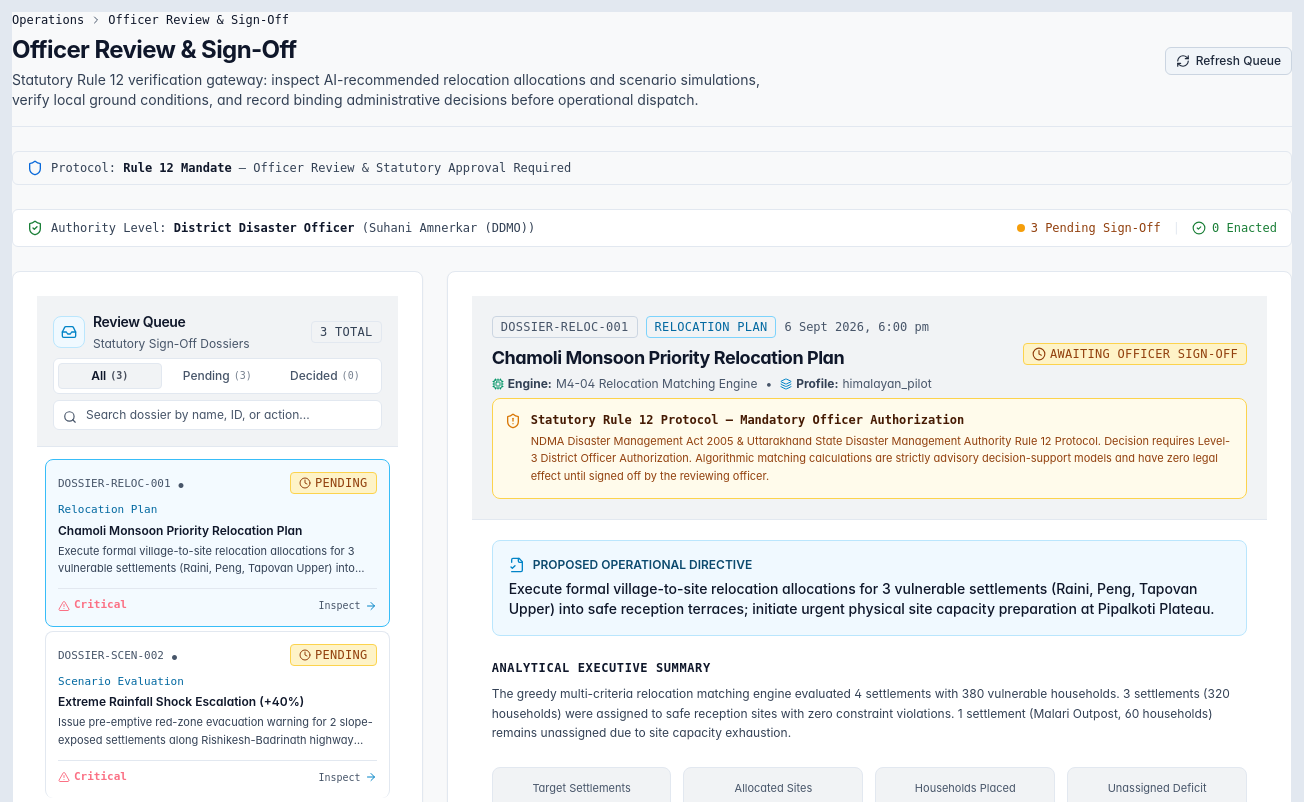
Test case: Officer Review & Action Sign-Off UI Suite (Chunk M6-08) › 3. Switches Queue Filter Tabs between All, Pending, and Decided
Check: the text "Chamoli Monsoon Priority Relocation Plan" is shown, box [58,522,302,538]
Pending tab
Click the button with test id "filter-tab-pending" at (217, 376), box [166,363,269,389]
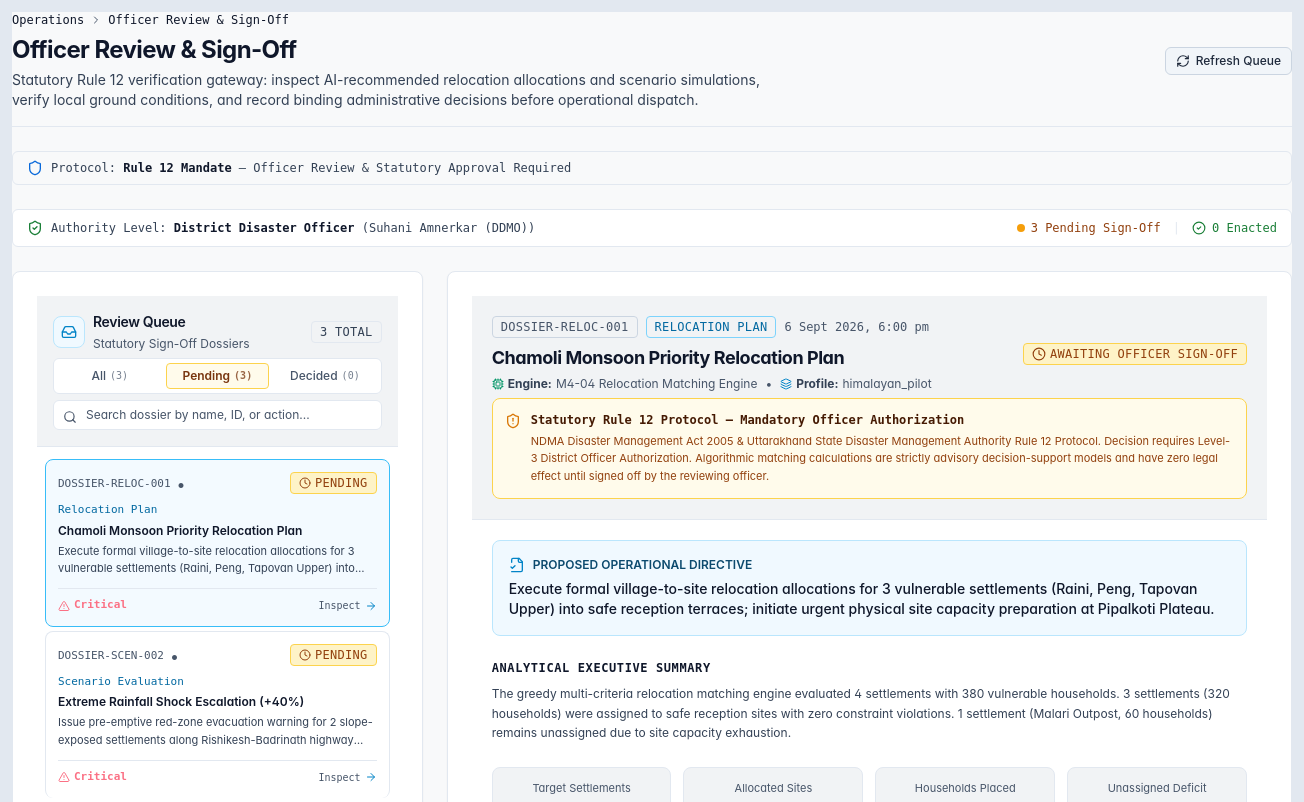
Check: the text "Chamoli Monsoon Priority Relocation Plan" is shown, box [58,522,302,538]
Decided tab (initially 0 decided)
Click the button with test id "filter-tab-decided" at (325, 376), box [273,363,377,389]
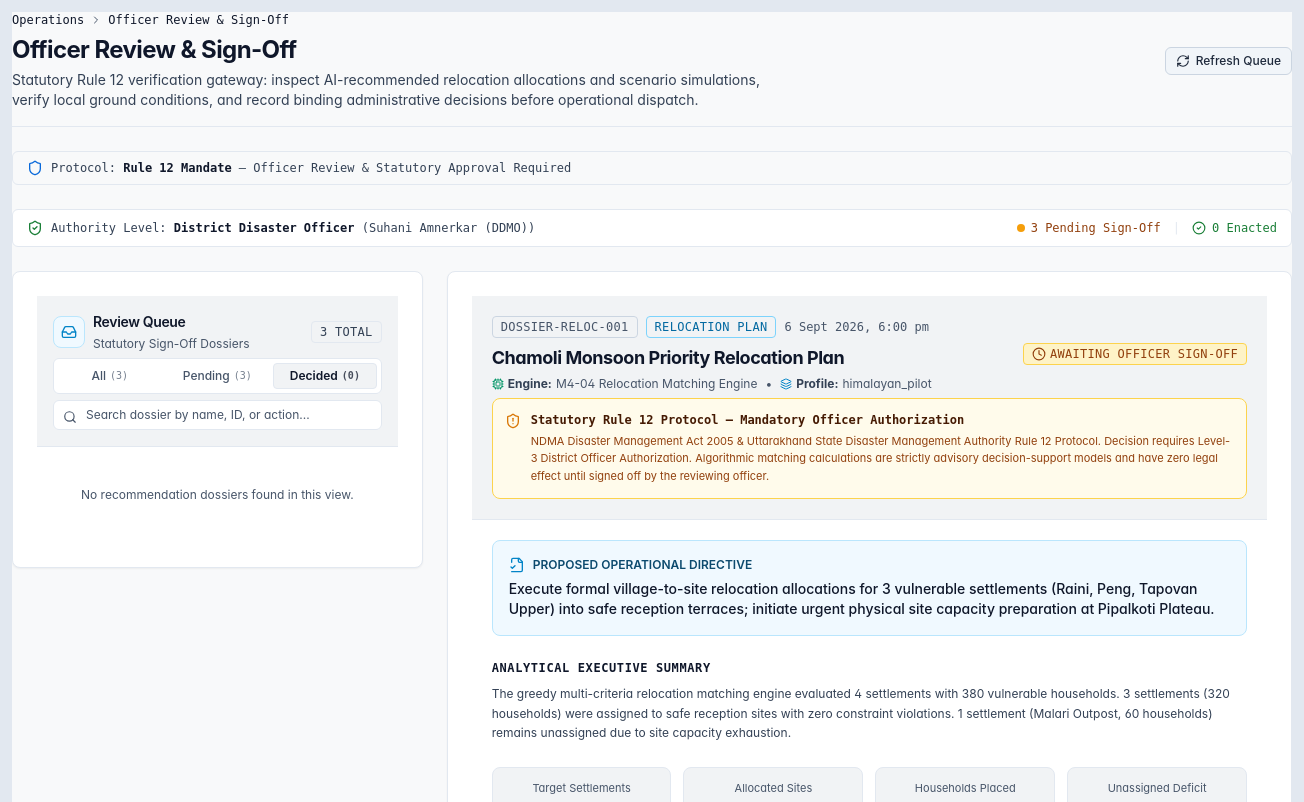
Check: the text "No recommendation dossiers found in this view." is shown, box [81,487,354,502]
Return to All tab
Click the button with test id "filter-tab-all" at (110, 376), box [58,363,162,389]
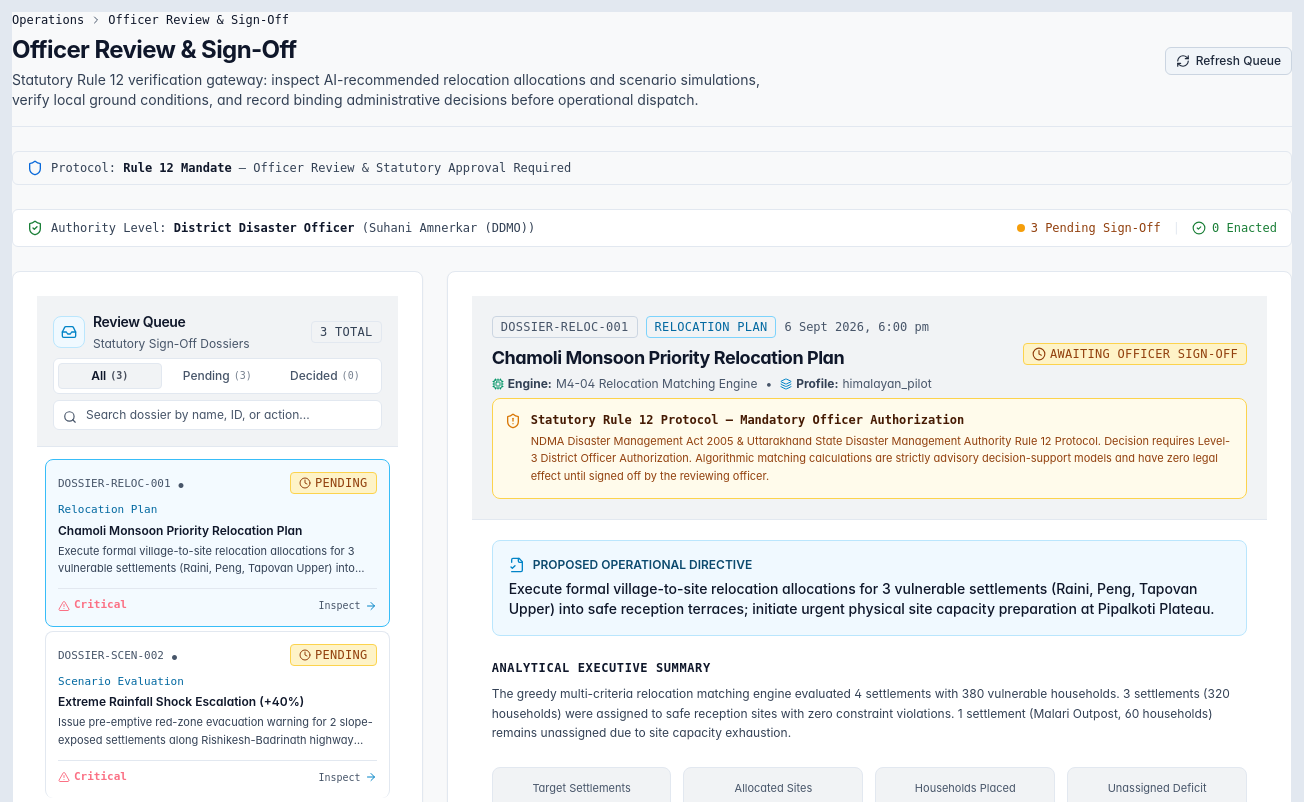
Check: the text "Chamoli Monsoon Priority Relocation Plan" is shown, box [58,522,302,538]
